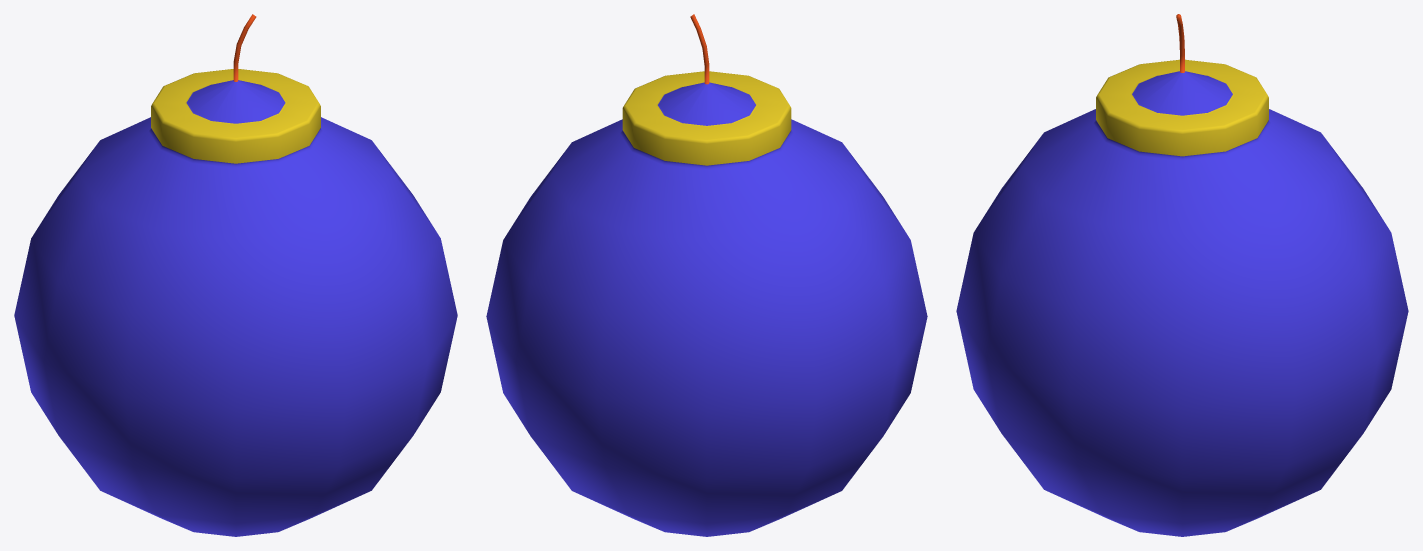
The model's file is bomb.glb.
3 views of the same model, side by side, from view 1: azimuth 30°, elevation 25°; view 2: azimuth 150°, elevation 25°; view 3: azimuth 270°, elevation 25° (orthographic). The views are drawn at different scales.
Parts seen in each view (by area): view 1: Icosphere; view 2: Icosphere; view 3: Icosphere.
Part boxes in pixels (bbox=[...]): Icosphere: bbox=[14, 14, 457, 536]; Icosphere: bbox=[486, 14, 927, 536]; Icosphere: bbox=[956, 14, 1408, 536].
Size of the model in its own units: 2 by 2.49 by 2.
